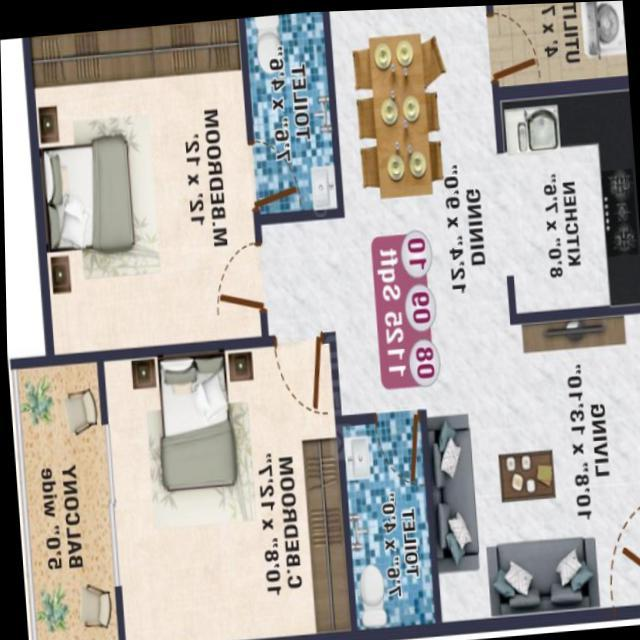Balcony-Sitout: (13, 355, 118, 640)
Bedroom: (101, 337, 351, 640)
Bedroom with Toilet: (29, 9, 343, 354)
Dining: (348, 25, 450, 206)
Kitchen: (501, 94, 640, 313)
Living: (423, 311, 640, 628)
Toilet: (343, 416, 434, 629), (247, 9, 338, 213)
Utility: (494, 0, 629, 87)
